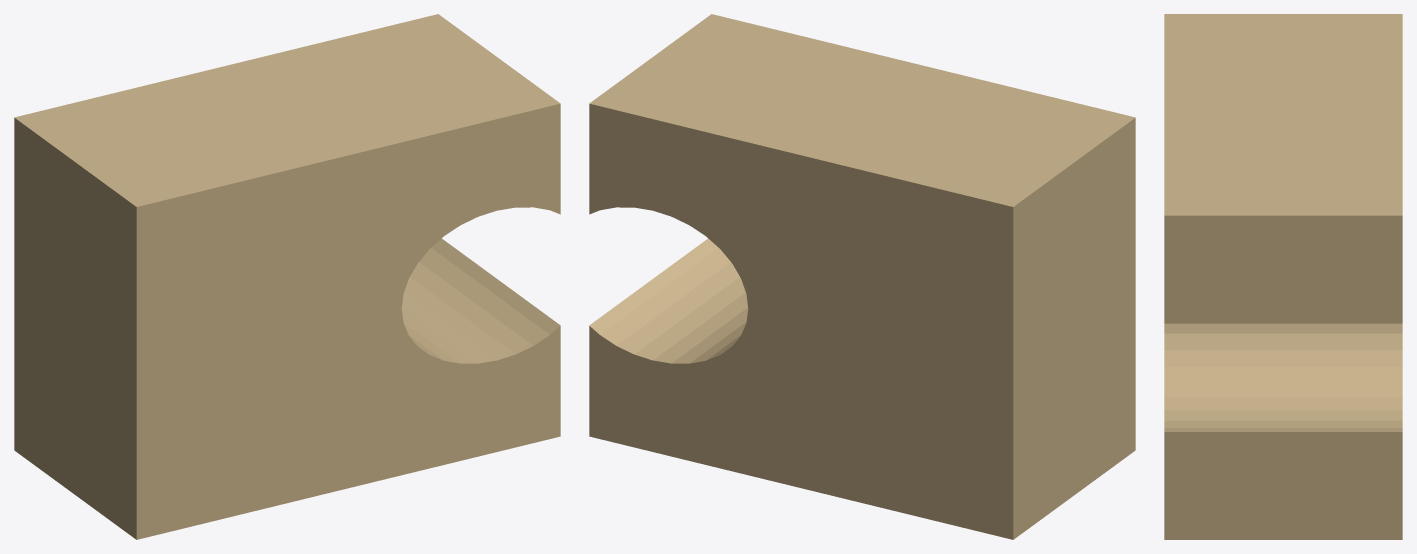
File: ESTUDO_SOLIDO.glb
3 views of the same model, side by side, from view 1: azimuth 30°, elevation 25°; view 2: azimuth 150°, elevation 25°; view 3: azimuth 270°, elevation 25° (orthographic). The views are drawn at different scales.
Parts seen in each view (by area): view 1: SUBTRACT; view 2: SUBTRACT; view 3: SUBTRACT.
Part boxes in pixels (x1,y1,x2,y2): SUBTRACT: (14, 14, 560, 539); SUBTRACT: (589, 14, 1135, 539); SUBTRACT: (1164, 14, 1402, 539).
Size of the model in its own units: 0.2 by 0.15 by 0.1.
